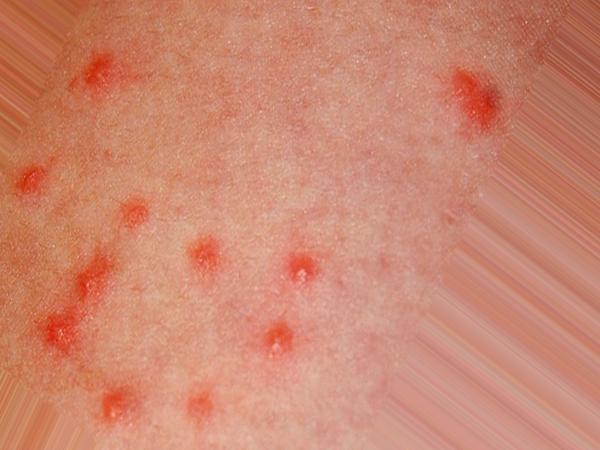Fleas: (433, 57, 514, 140), (59, 246, 123, 322), (255, 318, 302, 366), (38, 308, 81, 356), (69, 50, 115, 94), (94, 384, 142, 425), (185, 233, 226, 279), (14, 161, 49, 194), (120, 198, 152, 230), (288, 255, 316, 287)
